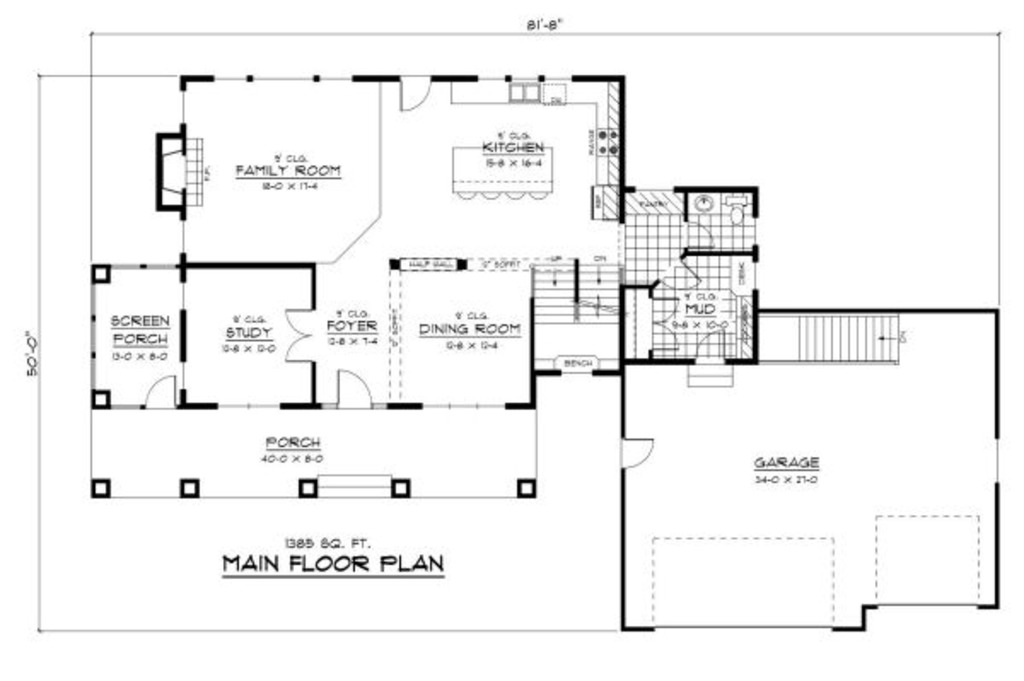door: (647, 291, 686, 352), (285, 305, 314, 366), (332, 368, 373, 409), (138, 372, 181, 407), (394, 75, 432, 113), (620, 434, 657, 471)
kitchen_bar: (449, 141, 555, 205)
large_sink: (727, 194, 753, 227)
small_sink: (686, 190, 723, 218)
stairs: (532, 254, 624, 377), (760, 311, 912, 366)
twin_sink: (507, 83, 543, 105)
windows: (209, 73, 356, 86), (417, 397, 509, 413), (214, 398, 288, 412)
